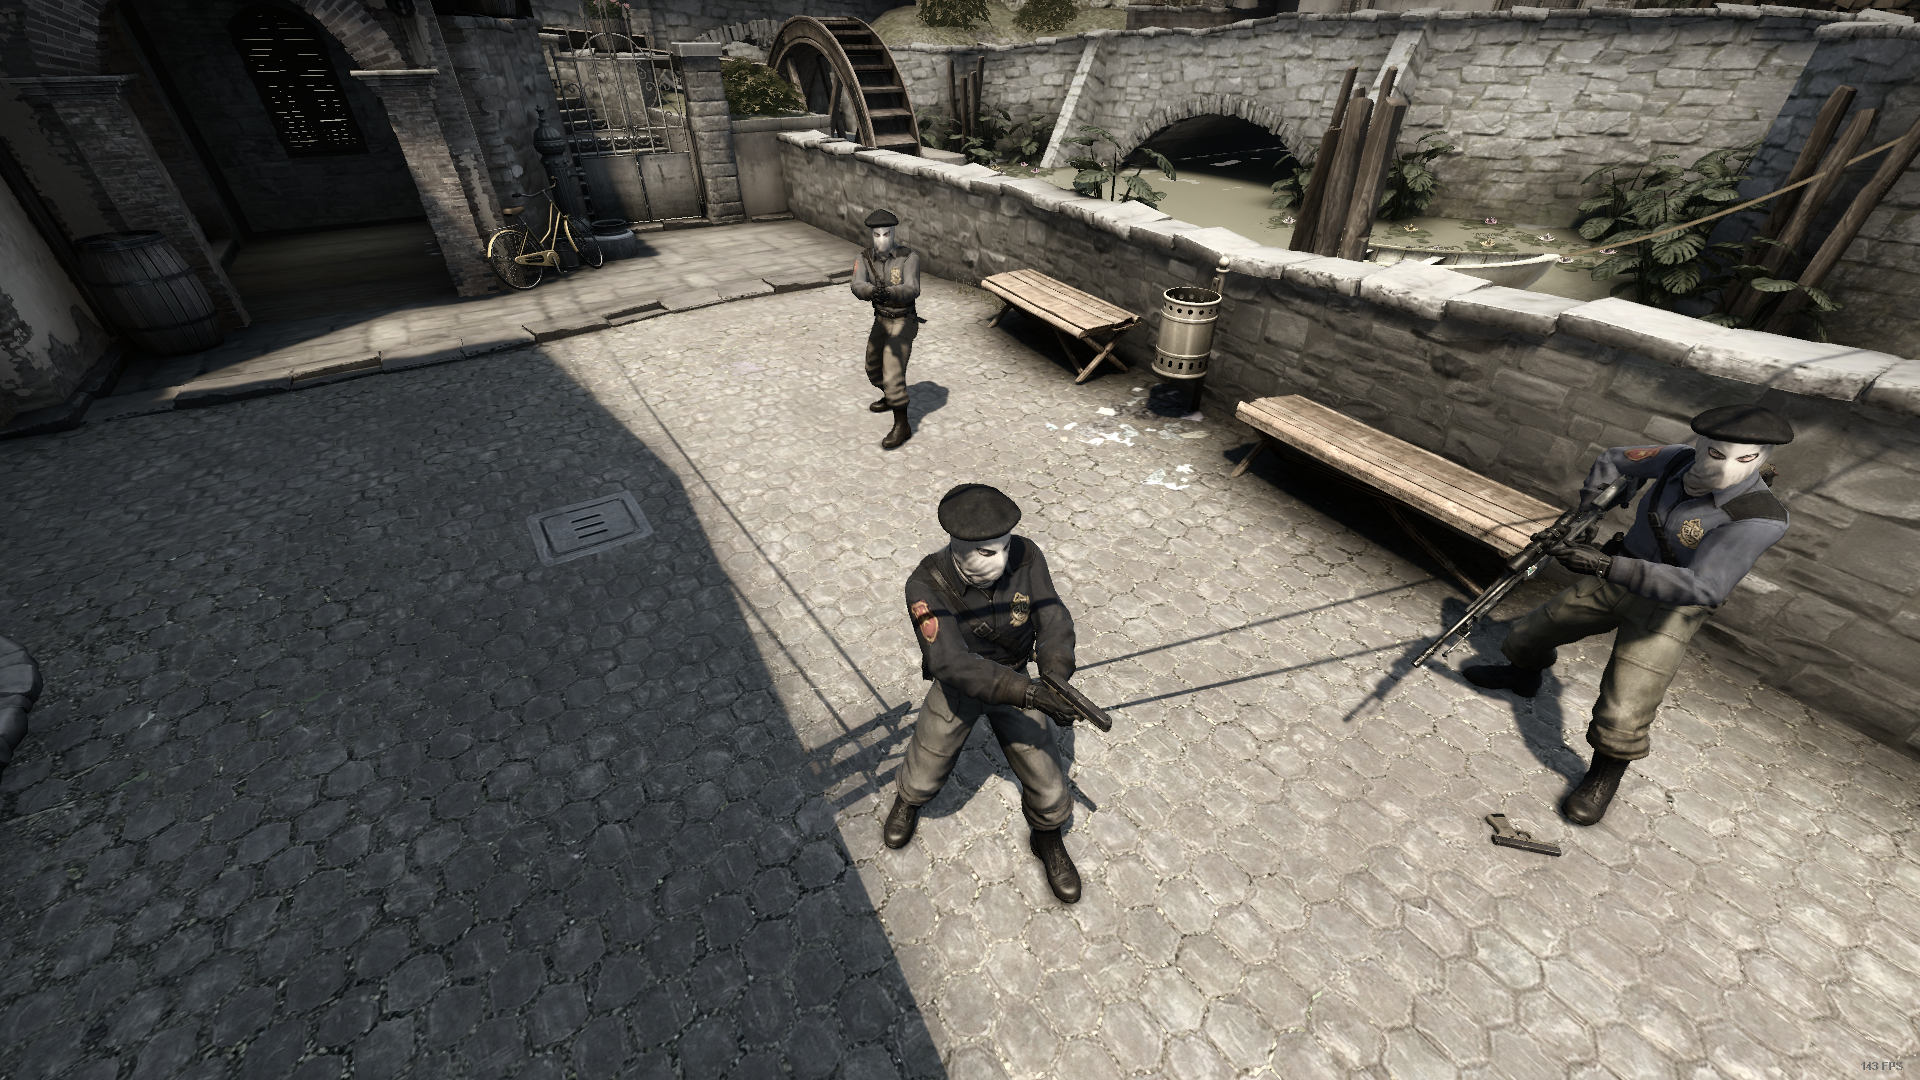t: (1440, 398, 1789, 822), (884, 487, 1108, 911), (849, 211, 924, 448)
